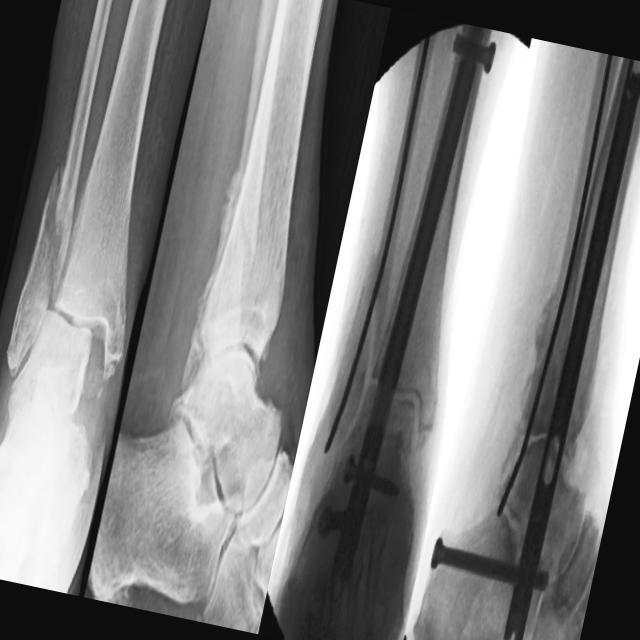Fracture Dislocation: (41, 152, 126, 396)
